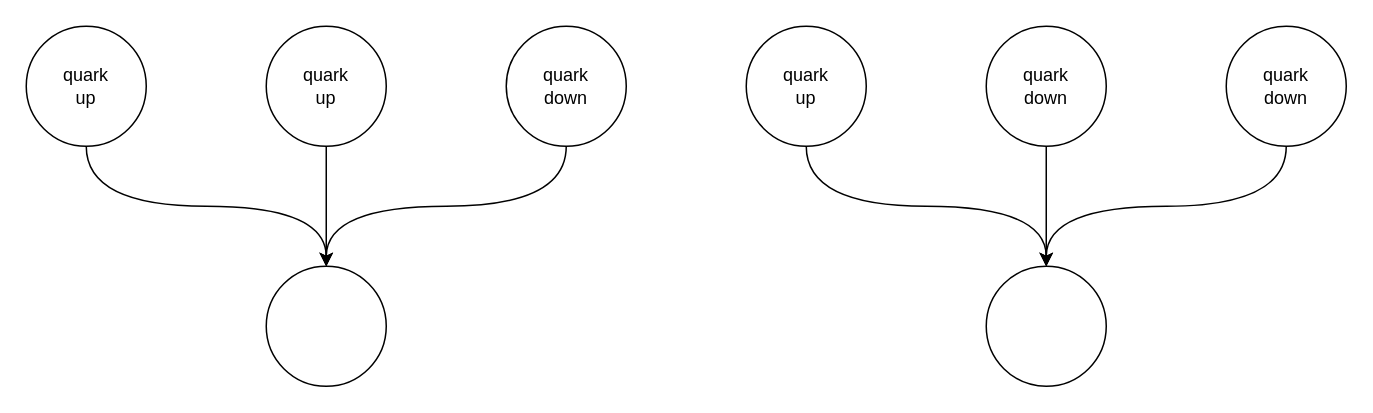
The diagram is 1373 pixels wide and 413 high, and some of its shapes have lost their labels. The shapes that lost their labels are listed below. From the top down, each one's centre as x and y in pixels, then its label:
[325,325]: proton +
[1045,325]: electron -
